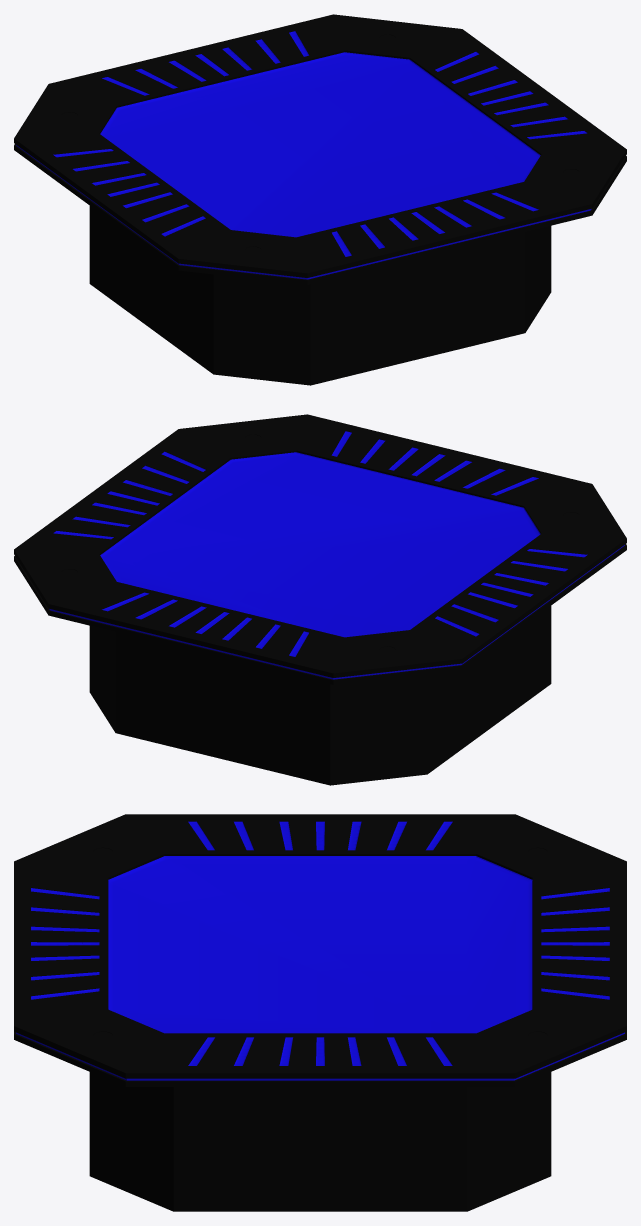
File: DisplayTableMini.fbx
3 views of the same model, one above another, from view 1: azimuth 30°, elevation 25°; view 2: azimuth 150°, elevation 25°; view 3: azimuth 270°, elevation 25° (orthographic). The views are drawn at different scales.
Visible parts, largest first — view 1: Cube; view 2: Cube; view 3: Cube.
Part boxes in pixels (<box>): Cube: <box>14,14,626,385</box>; Cube: <box>14,414,626,785</box>; Cube: <box>14,814,626,1211</box>.
Bounding box in the file's own units: 417 × 128 × 417.
